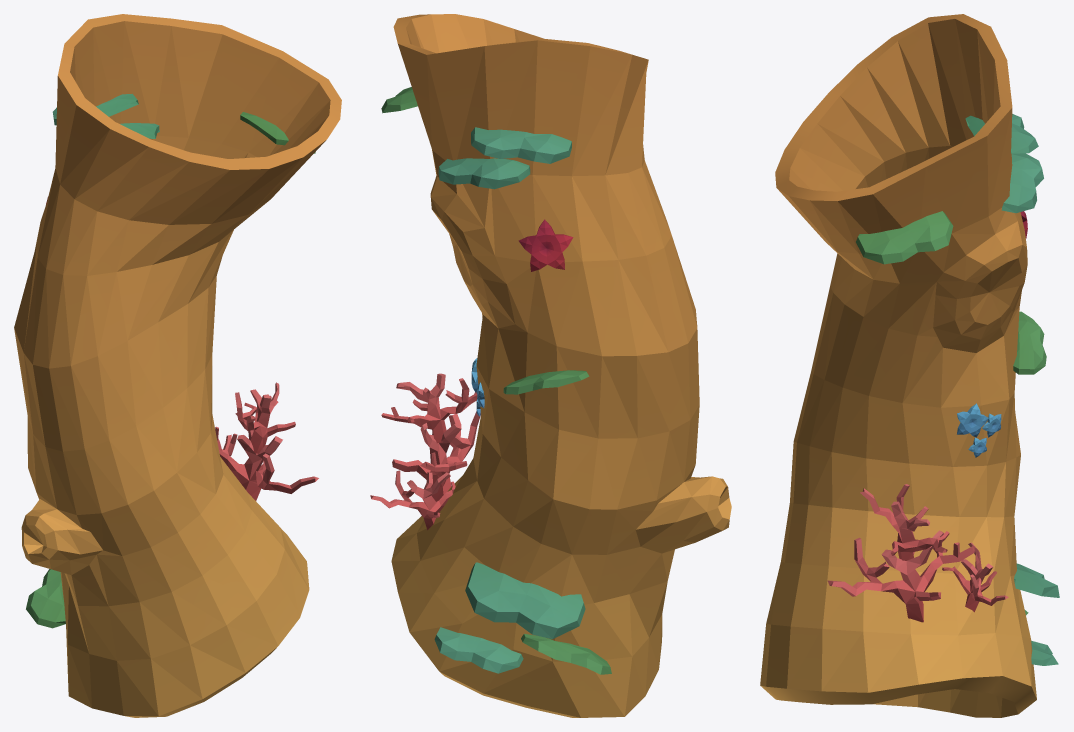
The model's file is Coral_02.FBX.
3 renders of one model, left to right at view 1: azimuth 30°, elevation 25°; view 2: azimuth 150°, elevation 25°; view 3: azimuth 270°, elevation 25°, orthographic. The views are drawn at different scales.
Parts seen in each view (by area): view 1: Coral_02; view 2: Coral_02; view 3: Coral_02.
Boxes of the visible parts, x1,y1,x2,y2 form: Coral_02: [14, 14, 341, 717]; Coral_02: [370, 14, 731, 717]; Coral_02: [760, 14, 1059, 717].
Bounding box in the file's own units: 13.83 × 28.08 × 10.93.
